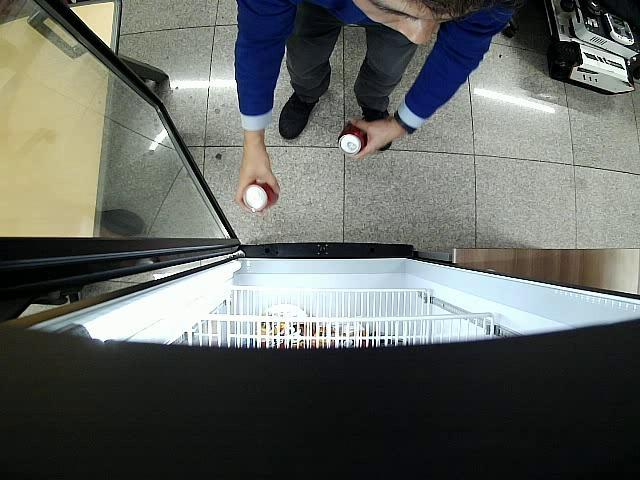11_cocaColaZero: (242, 183, 278, 212), (338, 122, 366, 155)
